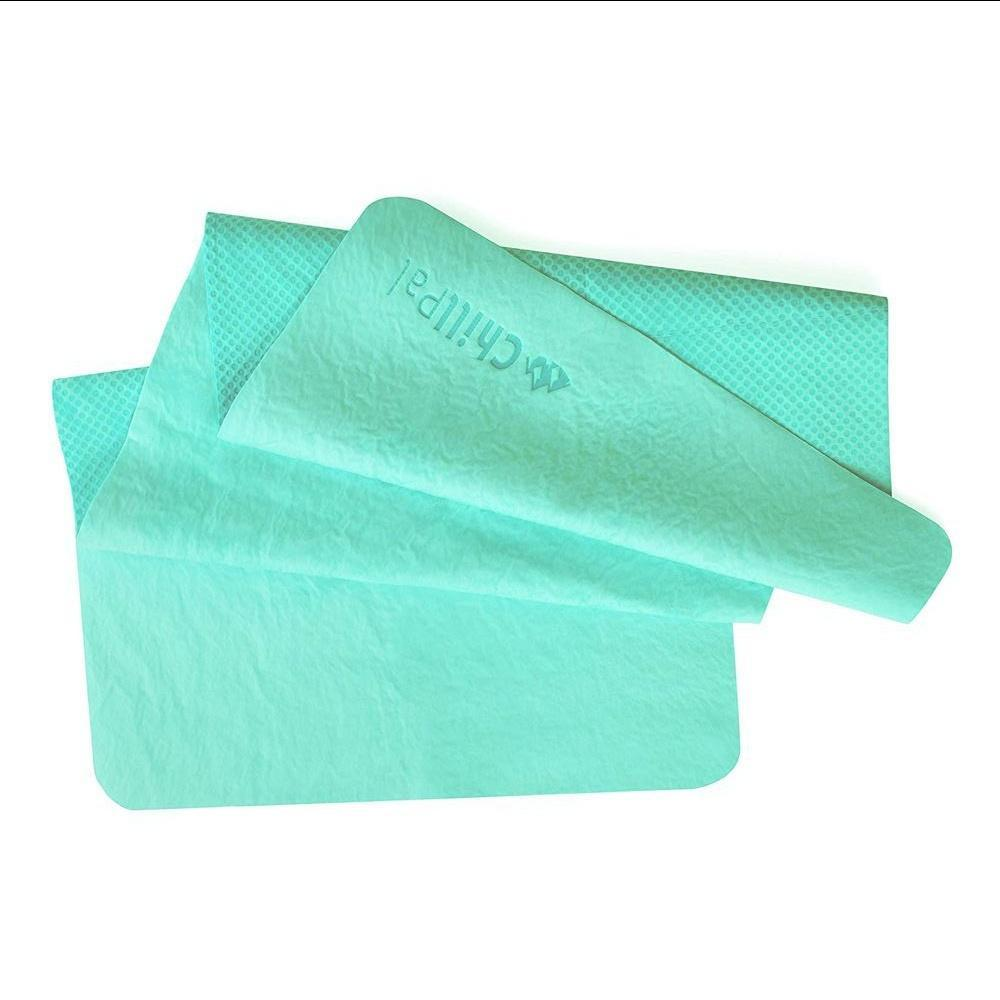towel: (25, 195, 960, 885)
